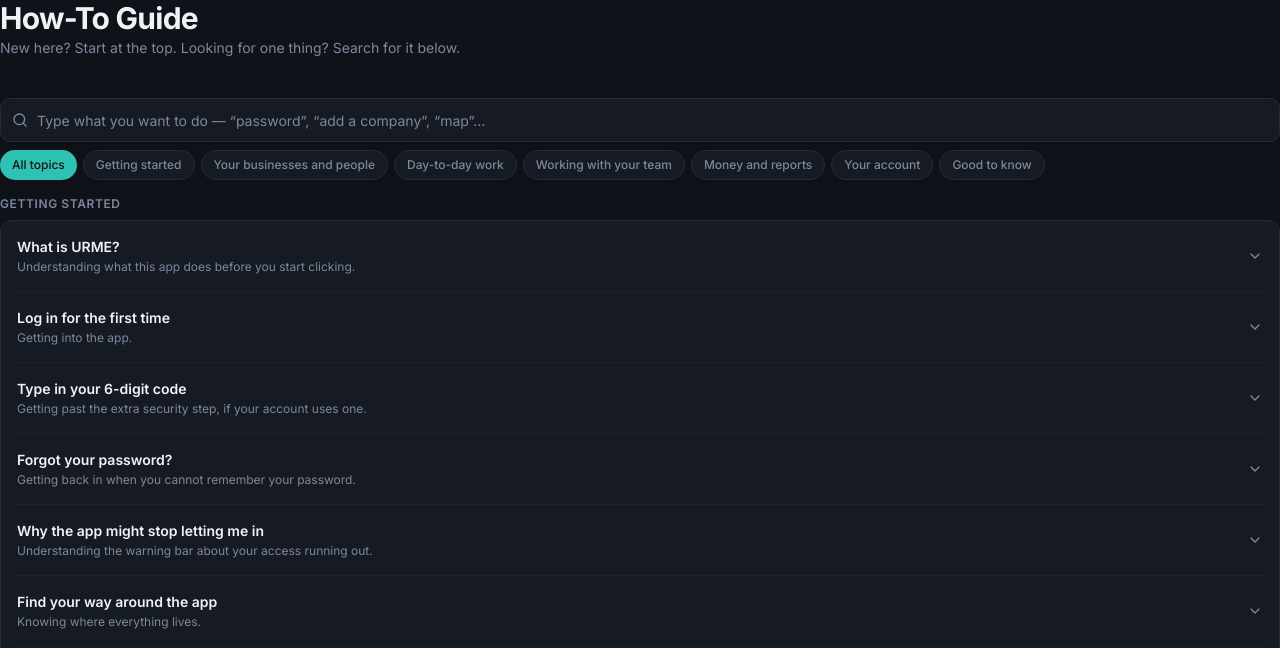
How-To Guide page › reports how many topics matched and opens them so the answer is visible
This screenshot has width=1280, height=648.
Replace the text in the search field named "Search help topics" with "kanban" at (640, 120), box top-left (0, 98), bottom-right (1279, 142)
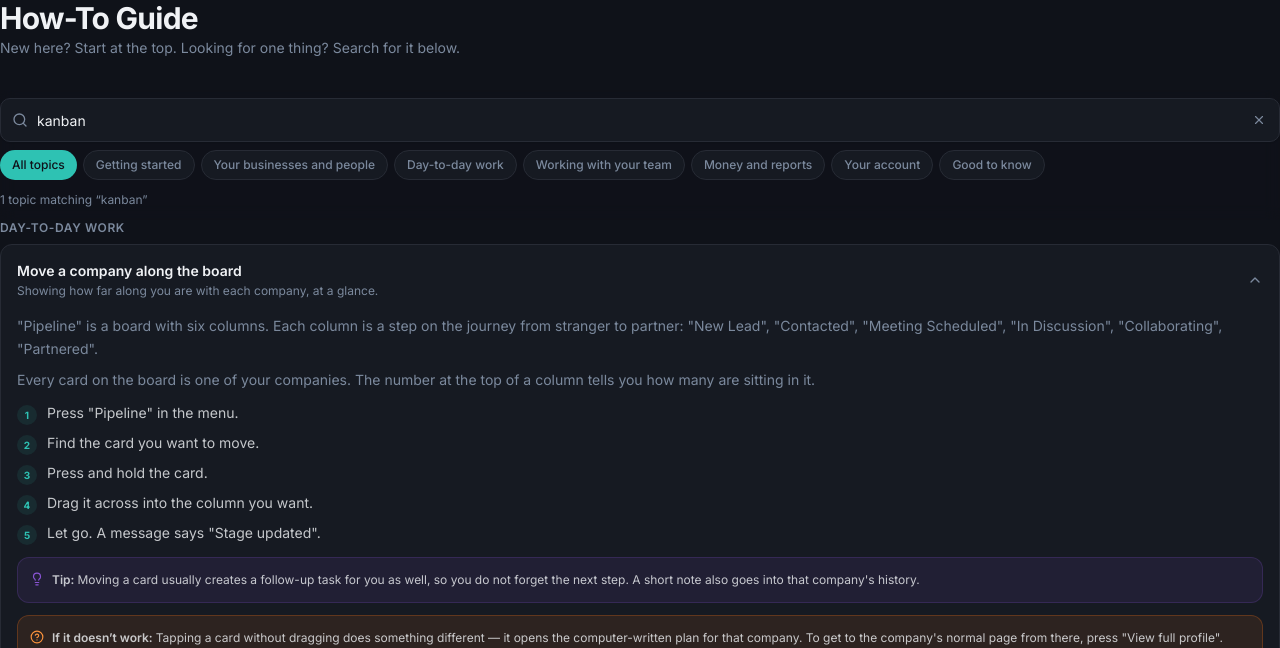
Result: the message shows "1 topic" at top-left (0, 192), bottom-right (148, 207)
Result: the text "Press and hold the card." is shown at top-left (47, 463), bottom-right (208, 485)
